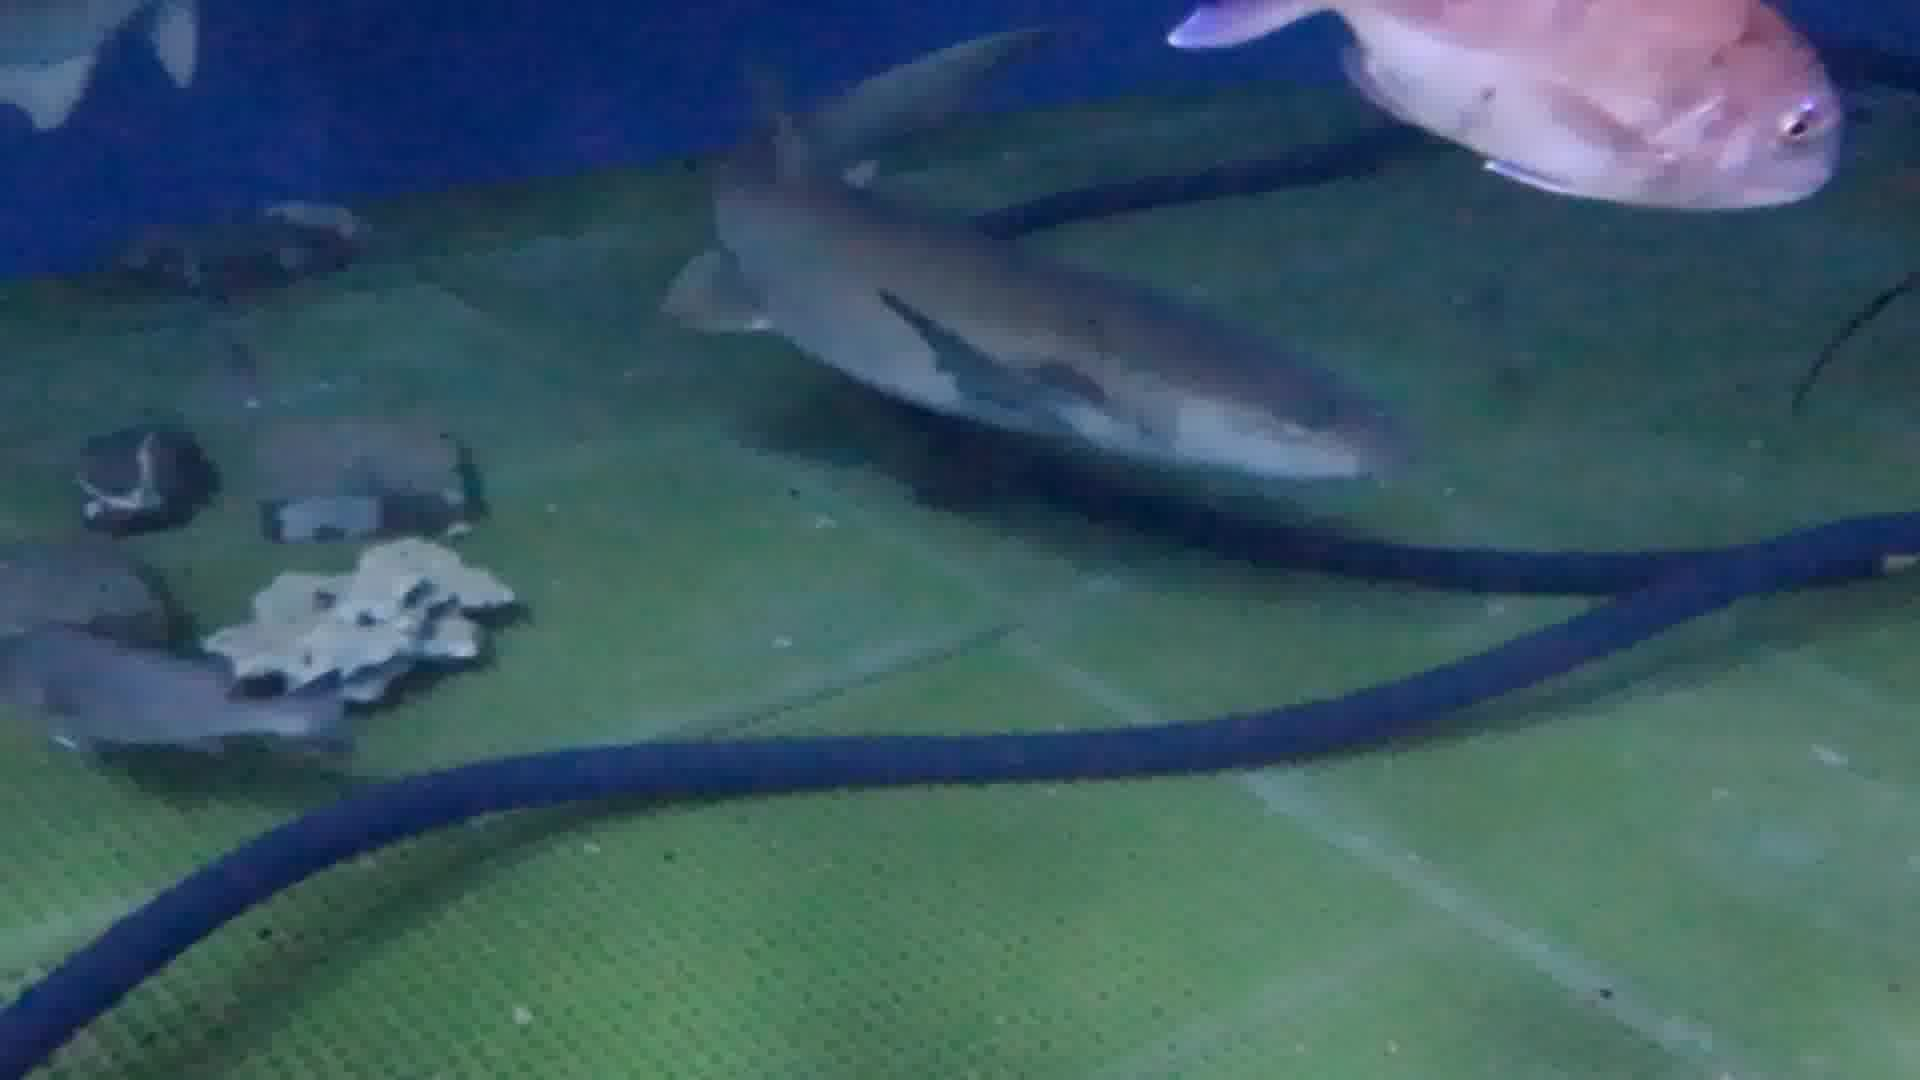Nebrius ferrugineus: (691, 70, 1396, 493)
